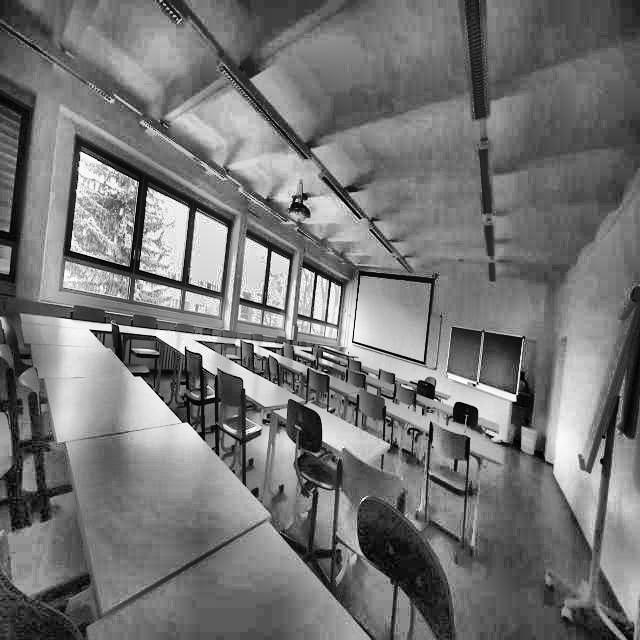ff: (117, 62, 333, 187)
